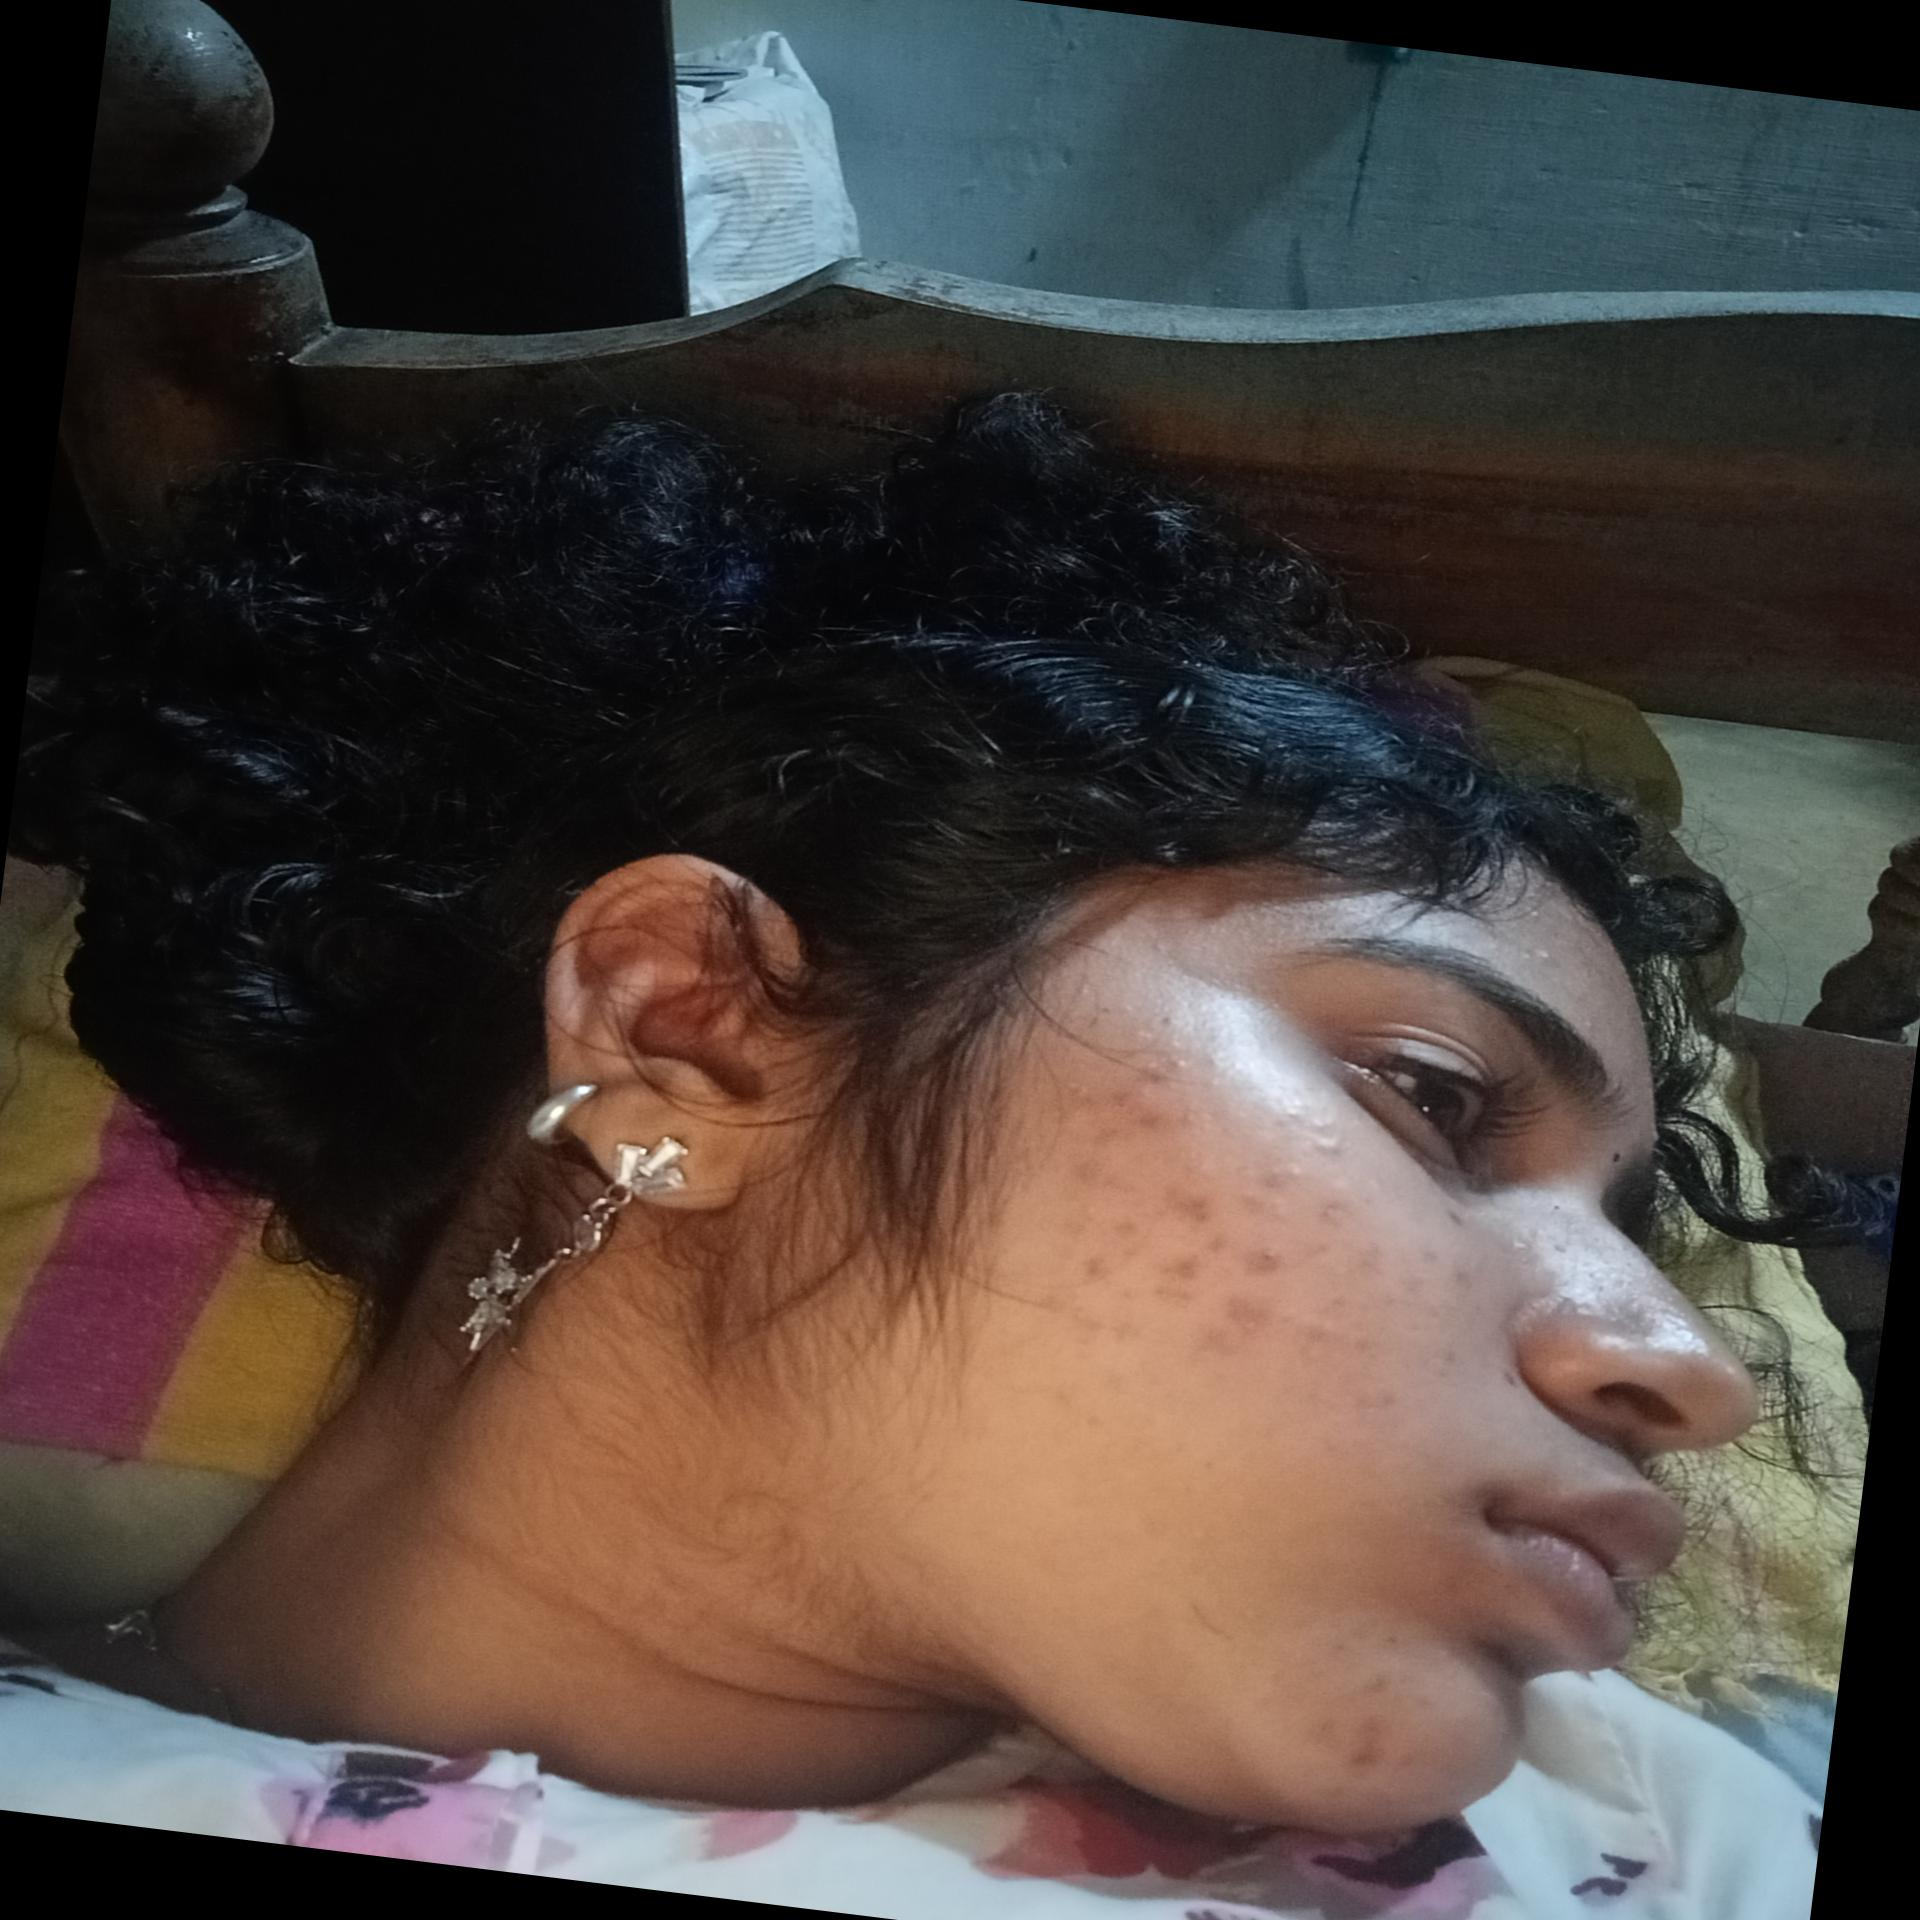Acne: (1194, 1287, 1275, 1361), (1240, 1150, 1313, 1218), (1136, 1250, 1196, 1317), (1276, 1097, 1343, 1153), (1176, 1218, 1229, 1289), (1064, 1155, 1132, 1194), (1352, 1707, 1389, 1778), (1240, 1234, 1282, 1278), (1074, 1252, 1120, 1291), (1162, 1180, 1210, 1217), (1289, 1234, 1340, 1268), (1305, 1305, 1349, 1343), (1345, 1380, 1398, 1412), (1489, 1357, 1533, 1394), (1134, 1055, 1178, 1088), (1343, 1329, 1394, 1357), (1132, 1101, 1180, 1131), (1333, 1250, 1380, 1280), (1097, 1217, 1145, 1247), (1445, 1261, 1489, 1292), (1097, 1080, 1139, 1111), (1315, 1197, 1359, 1225), (1433, 1340, 1470, 1373), (1099, 1320, 1141, 1347), (1415, 1245, 1449, 1271), (1322, 1289, 1352, 1315), (1530, 941, 1558, 965)
